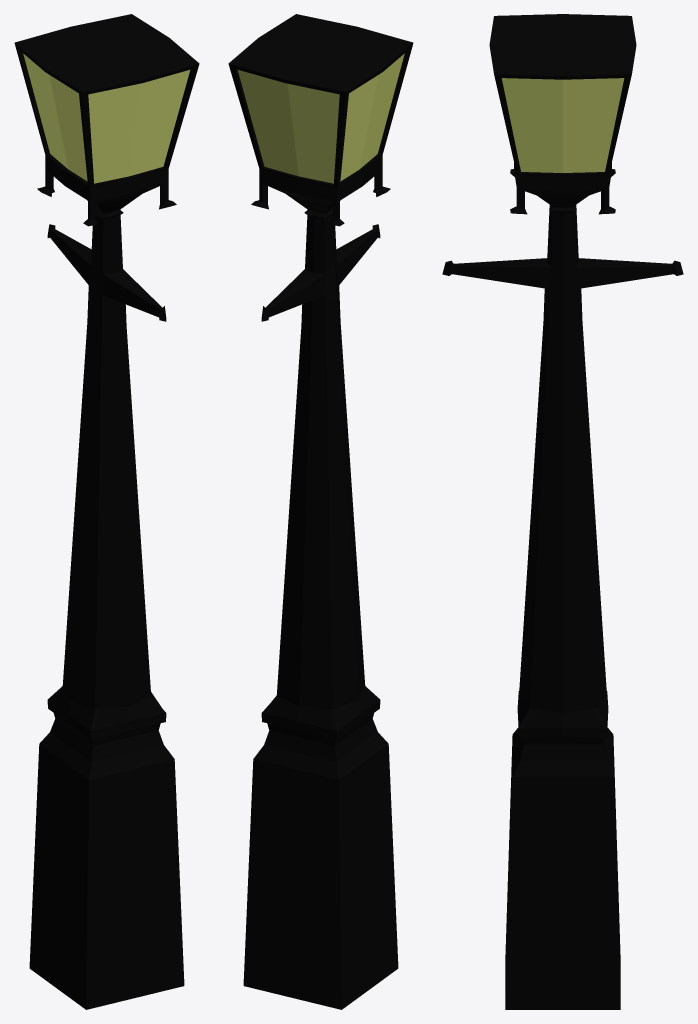
File: LightPost FInal.fbx
The picture shows the model from 3 angles, left to right: view 1: azimuth 30°, elevation 25°; view 2: azimuth 150°, elevation 25°; view 3: azimuth 270°, elevation 25°; orthographic projection.
Parts seen in each view (by area): view 1: Cube; view 2: Cube; view 3: Cube.
Part boxes in pixels (bbox=[...]): Cube: bbox=[14, 14, 199, 1009]; Cube: bbox=[228, 14, 413, 1009]; Cube: bbox=[442, 14, 683, 1009].
Bounding box in the file's own units: 45.24 × 319 × 74.23.
